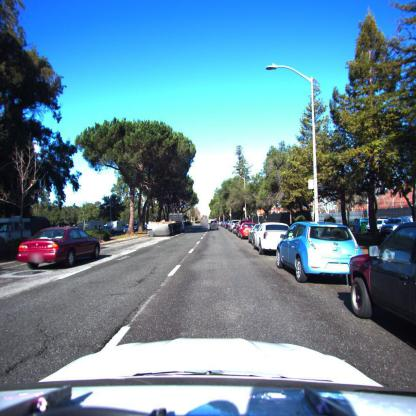car: (348, 218, 416, 379), (274, 222, 364, 286), (15, 226, 102, 269), (0, 217, 53, 261), (252, 223, 290, 256), (379, 217, 414, 238), (104, 221, 129, 235), (239, 222, 254, 238), (210, 218, 220, 230), (230, 221, 240, 232)
truck: (145, 210, 188, 240)
